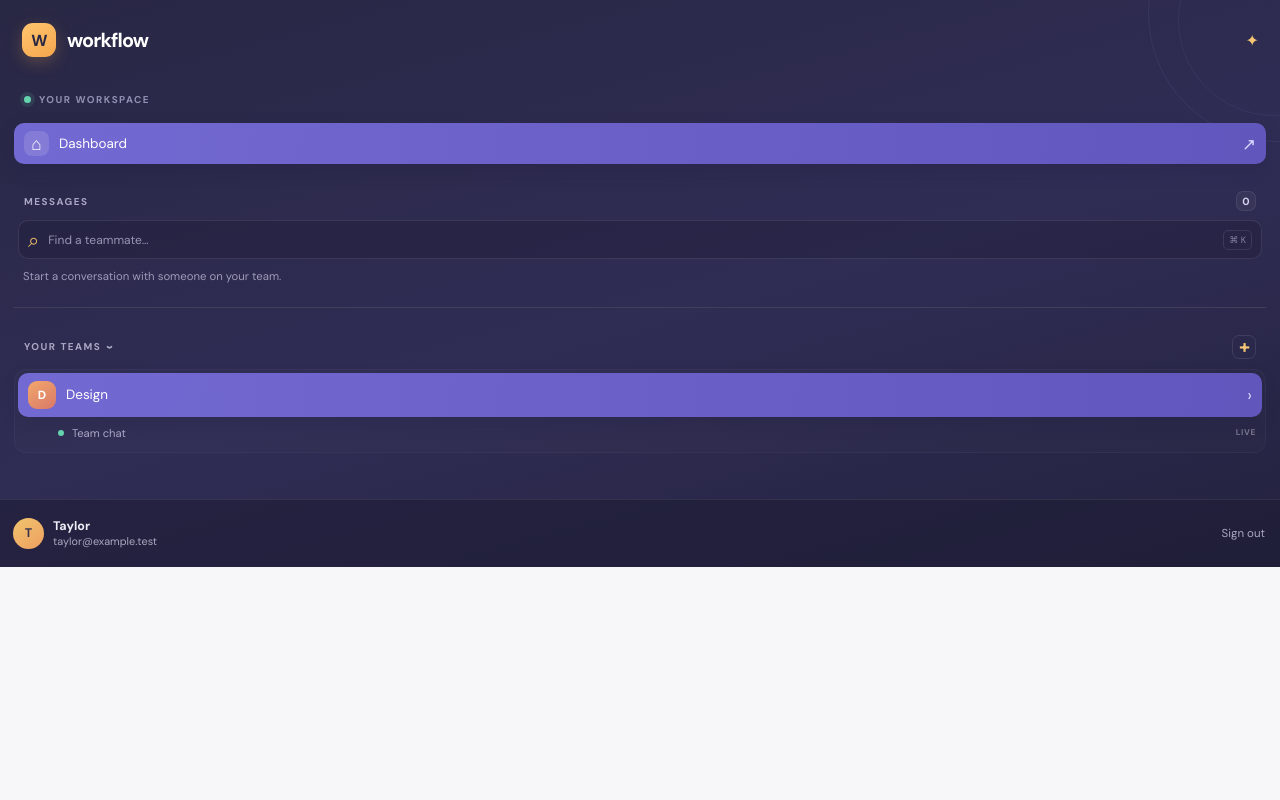
Sidebar › collapses and expands the team navigation
Expected: the text "Design" is shown, 66,386 -> 108,403
Click the button "YOUR TEAMS ›".
click(63, 347)  # box 24,337 -> 1232,357
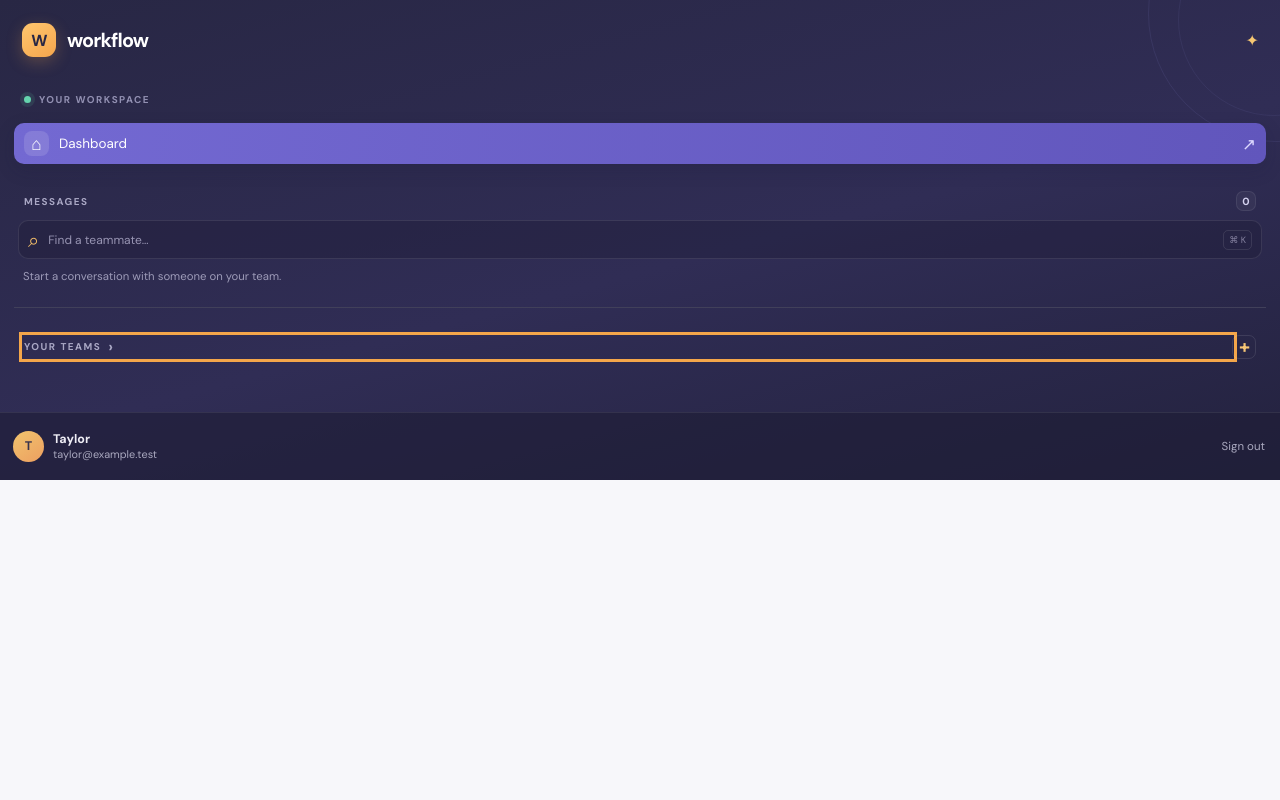
Now the button "Design" is gone
Click the button "YOUR TEAMS ›".
click(63, 347)  # box 24,337 -> 1232,357
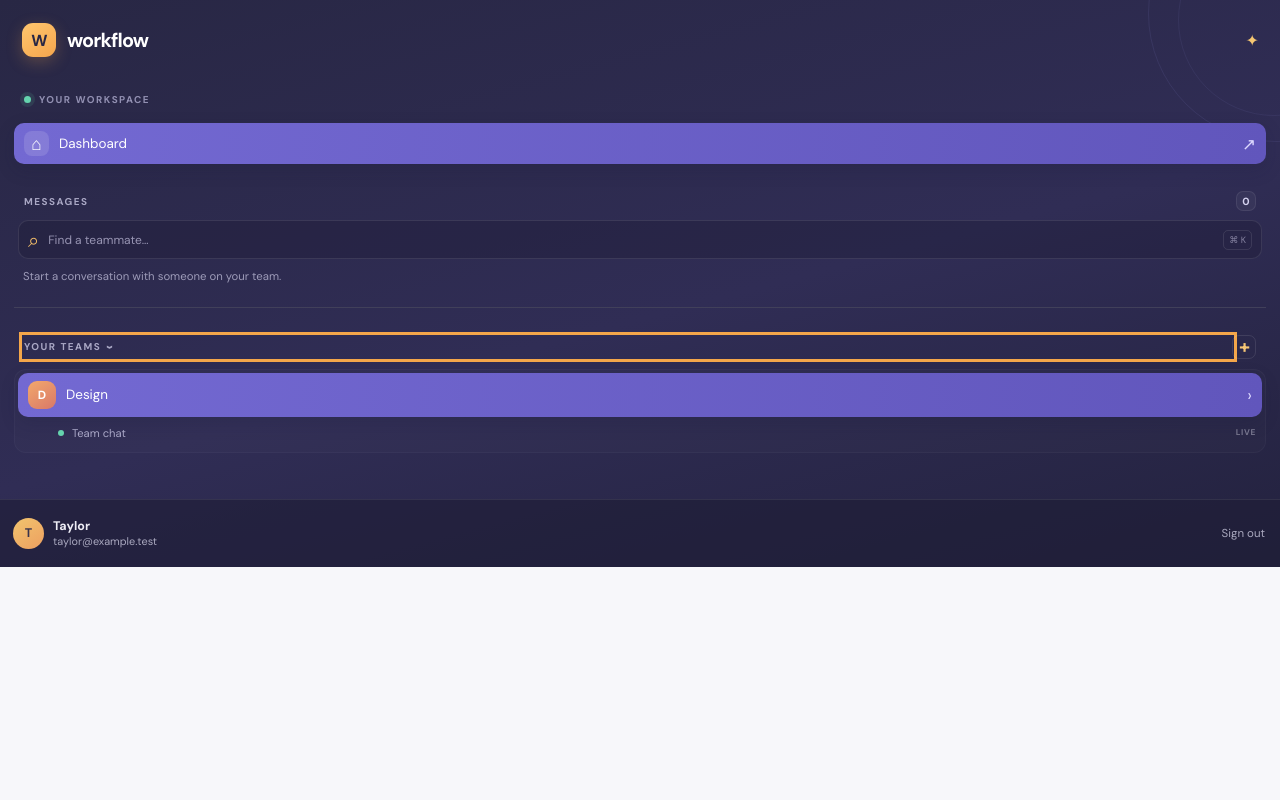
Now the text "Design" is shown, box 66,386 -> 108,403
